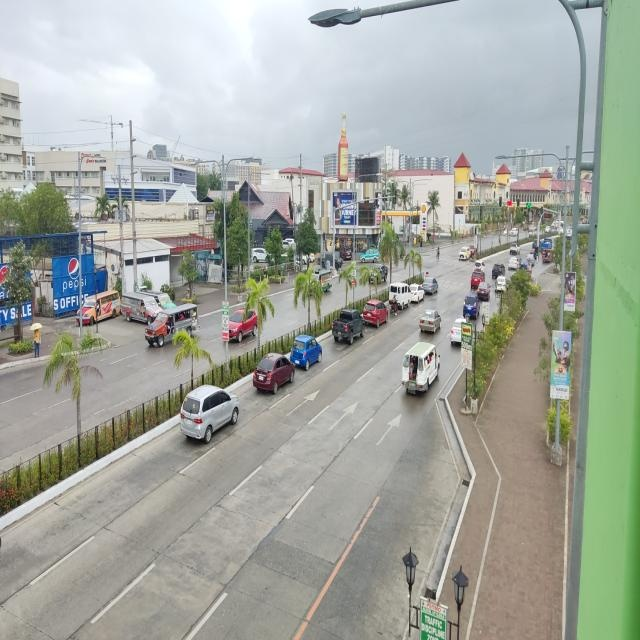Motorcycle: (388, 293, 401, 318), (436, 246, 440, 260)
Truck: (540, 236, 553, 254)
